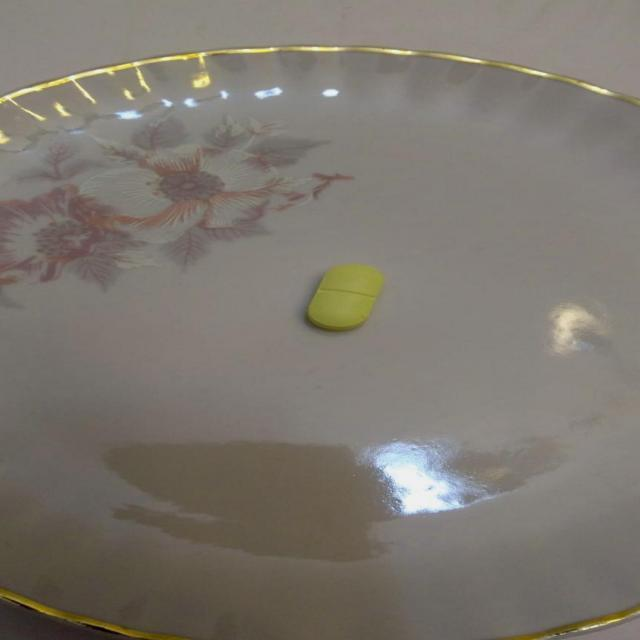pill: (286, 256, 402, 336)
